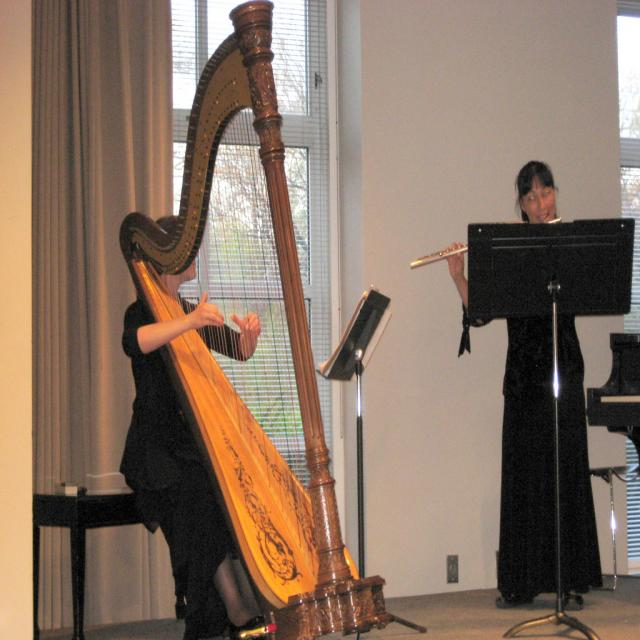harp: (118, 0, 393, 637)
